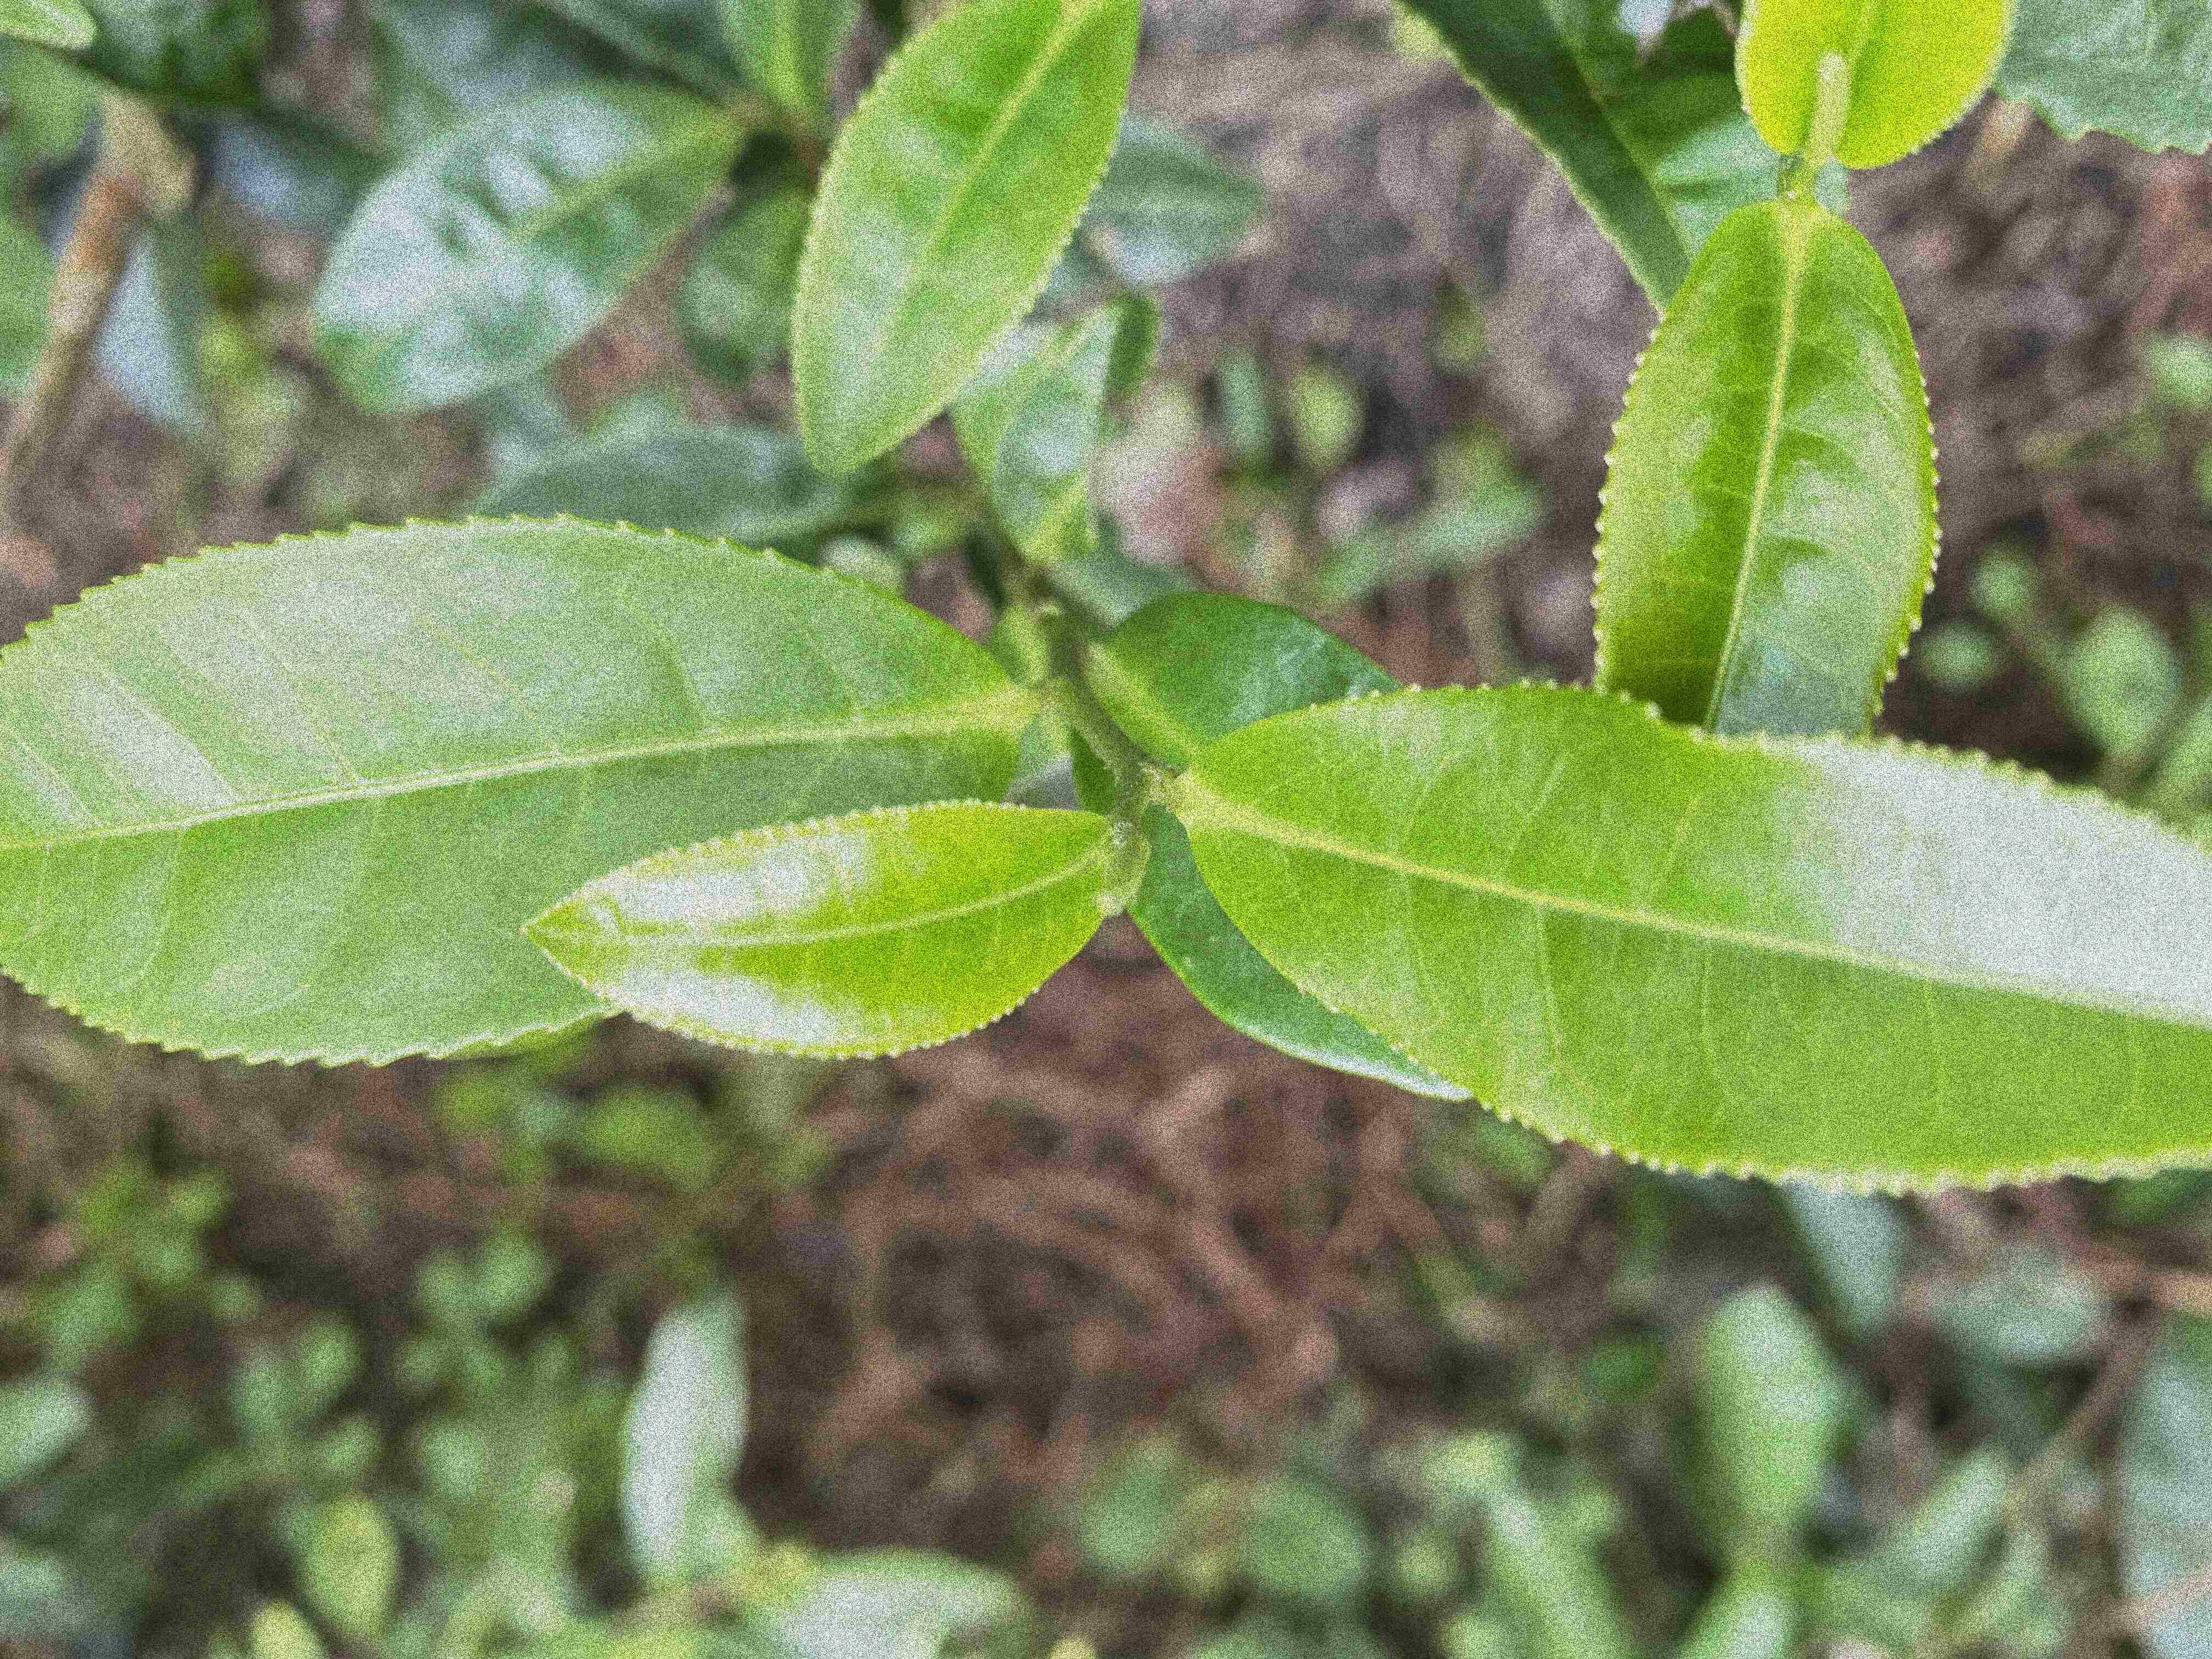healthy: (3, 516, 1024, 1068), (1190, 676, 2212, 1201), (1587, 200, 1940, 739), (787, 0, 1148, 479), (523, 796, 1130, 1063)
